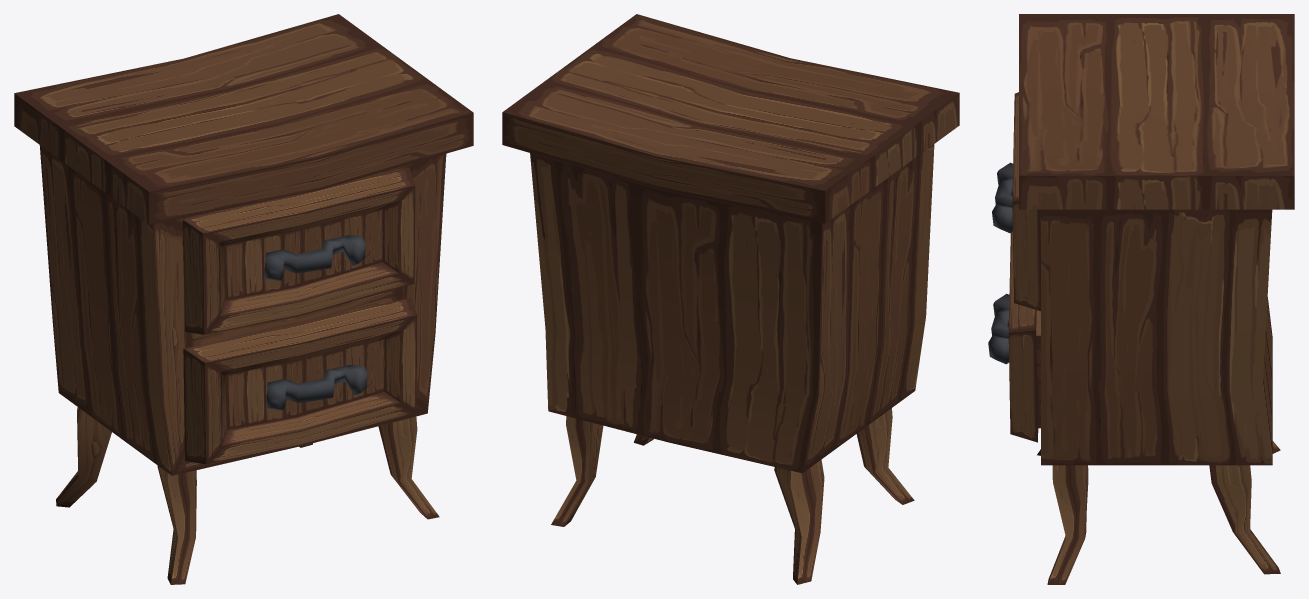
Rendered from SM_PROP_nightstand_interior_04.fbx.
3 views of the same model, side by side, from view 1: azimuth 30°, elevation 25°; view 2: azimuth 150°, elevation 25°; view 3: azimuth 270°, elevation 25° (orthographic). The views are drawn at different scales.
Parts seen in each view (by area): view 1: SM_PROP_nightstand_interior_04, SM_PROP_nightstand_drawer_02_interior_04, SM_PROP_nightstand_drawer_01_interior_04; view 2: SM_PROP_nightstand_interior_04; view 3: SM_PROP_nightstand_interior_04, SM_PROP_nightstand_drawer_02_interior_04, SM_PROP_nightstand_drawer_01_interior_04.
Part boxes in pixels (x1,y1,x2,y2): SM_PROP_nightstand_interior_04: [14, 14, 473, 584]; SM_PROP_nightstand_drawer_02_interior_04: [183, 297, 417, 464]; SM_PROP_nightstand_drawer_01_interior_04: [182, 167, 415, 334]; SM_PROP_nightstand_interior_04: [502, 14, 959, 584]; SM_PROP_nightstand_interior_04: [1019, 14, 1294, 584]; SM_PROP_nightstand_drawer_02_interior_04: [988, 231, 1040, 442]; SM_PROP_nightstand_drawer_01_interior_04: [992, 92, 1040, 311].
Bounding box in the file's own units: 69.17 × 83.41 × 55.33.
